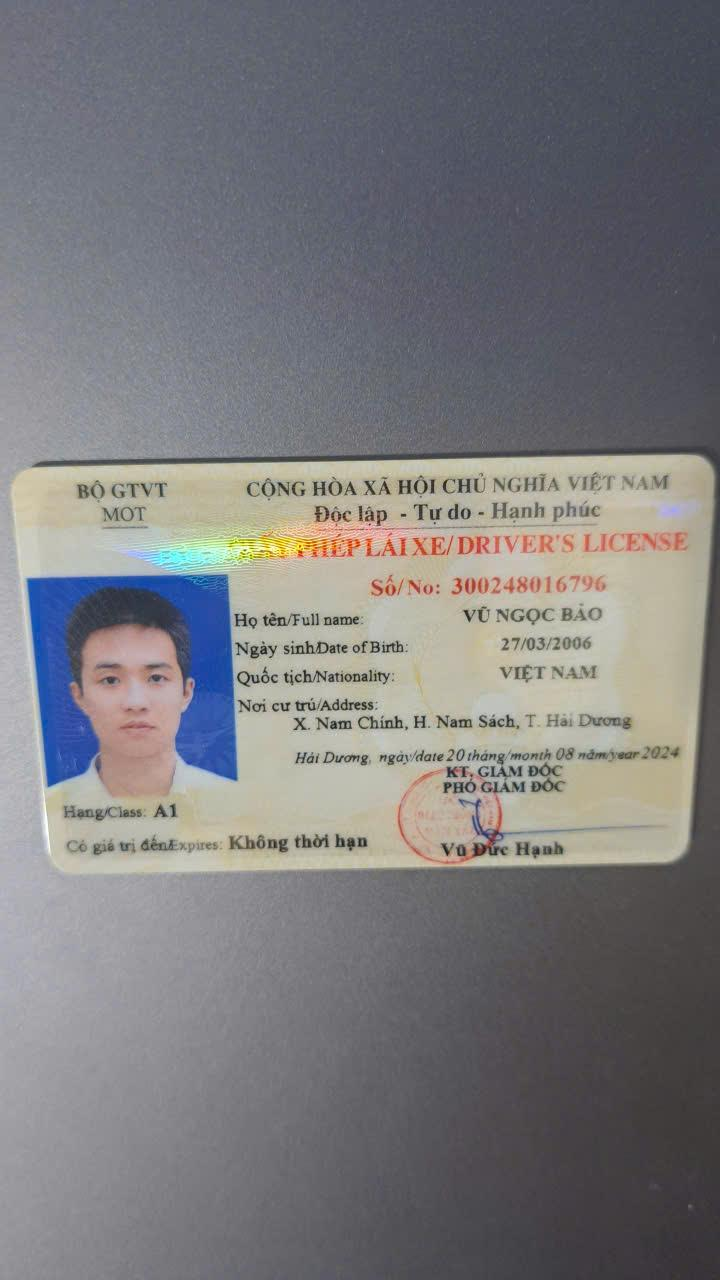gplx: (0, 449, 715, 875)
